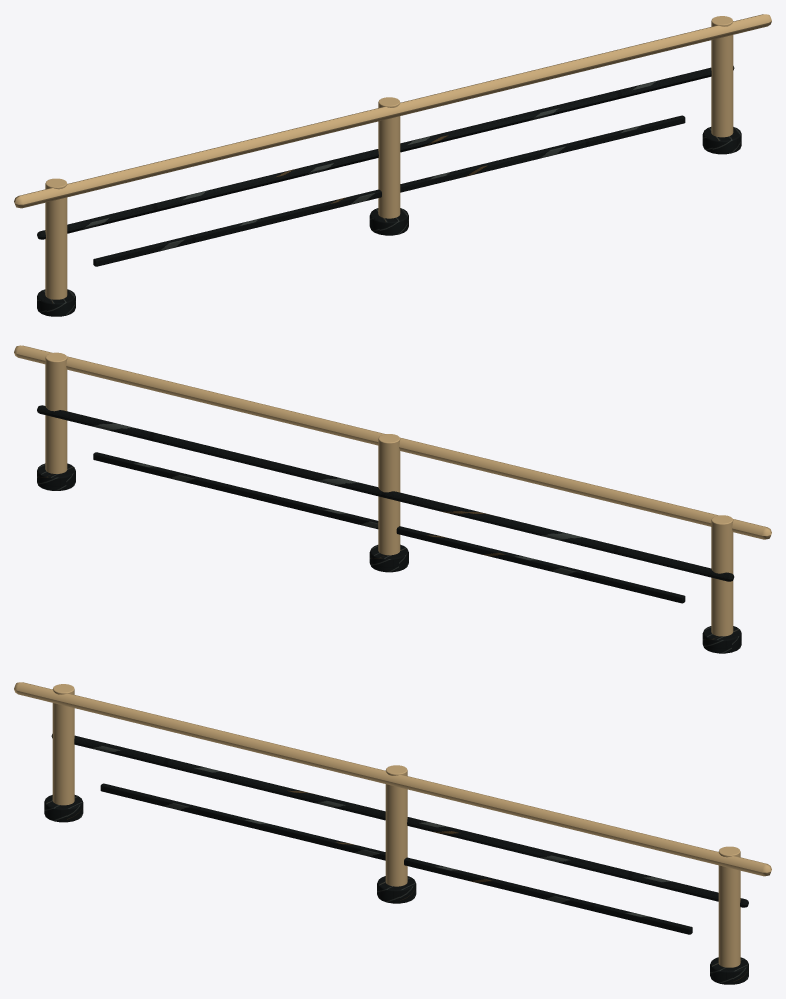
Rendered from hp_room_museum_low_barrier.glb.
3 views of the same model, one above another, from view 1: azimuth 30°, elevation 25°; view 2: azimuth 150°, elevation 25°; view 3: azimuth 330°, elevation 25° (orthographic).
Visible parts, largest first — view 1: front_low_gallery_rail_aged_brass, rear_shadow_rail, thin_black_gallery_shadow_plate, barrier_post.002, barrier_post, barrier_post.001, barrier_foot.001, barrier_foot.002, barrier_foot; view 2: front_low_gallery_rail_aged_brass, rear_shadow_rail, thin_black_gallery_shadow_plate, barrier_post, barrier_post.002, barrier_post.001, barrier_foot.001, barrier_foot, barrier_foot.002; view 3: front_low_gallery_rail_aged_brass, rear_shadow_rail, thin_black_gallery_shadow_plate, barrier_post, barrier_post.002, barrier_post.001, barrier_foot.001, barrier_foot, barrier_foot.002.
Part boxes in pixels (bbox=[...]): front_low_gallery_rail_aged_brass: bbox=[14, 14, 771, 208]; rear_shadow_rail: bbox=[37, 66, 734, 239]; thin_black_gallery_shadow_plate: bbox=[93, 115, 685, 266]; barrier_post.002: bbox=[711, 16, 733, 137]; barrier_post: bbox=[45, 178, 67, 299]; barrier_post.001: bbox=[378, 97, 400, 218]; barrier_foot.001: bbox=[369, 208, 408, 235]; barrier_foot.002: bbox=[702, 127, 741, 154]; barrier_foot: bbox=[37, 289, 75, 316]; front_low_gallery_rail_aged_brass: bbox=[14, 345, 771, 539]; rear_shadow_rail: bbox=[37, 405, 734, 581]; thin_black_gallery_shadow_plate: bbox=[93, 452, 685, 603]; barrier_post: bbox=[711, 515, 733, 636]; barrier_post.002: bbox=[45, 352, 67, 473]; barrier_post.001: bbox=[378, 434, 400, 555]; barrier_foot.001: bbox=[369, 544, 408, 572]; barrier_foot: bbox=[702, 626, 741, 653]; barrier_foot.002: bbox=[37, 463, 75, 490]; front_low_gallery_rail_aged_brass: bbox=[14, 682, 771, 876]; rear_shadow_rail: bbox=[51, 734, 748, 907]; thin_black_gallery_shadow_plate: bbox=[100, 783, 692, 934]; barrier_post: bbox=[52, 684, 74, 805]; barrier_post.002: bbox=[718, 846, 740, 967]; barrier_post.001: bbox=[385, 765, 407, 886]; barrier_foot.001: bbox=[377, 876, 416, 903]; barrier_foot: bbox=[44, 795, 83, 822]; barrier_foot.002: bbox=[710, 957, 748, 984].
Size of the model in its own units: 2.55 by 0.407 by 0.1139.
2 materials, 1 textured.
